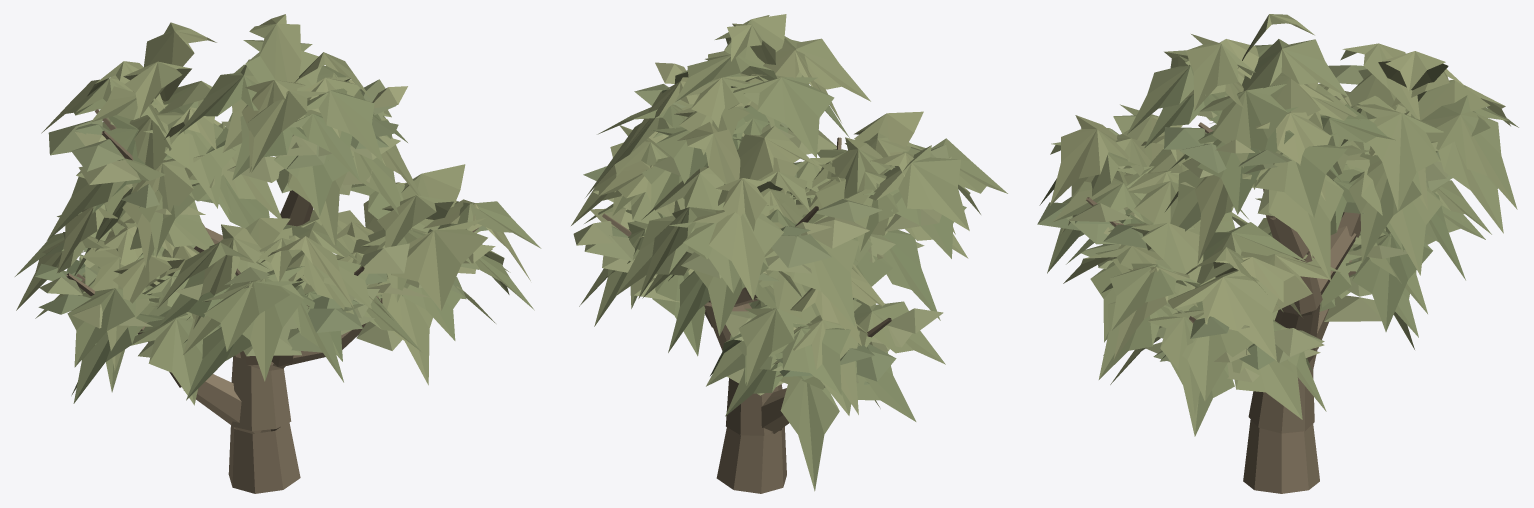
Rendered from leader.glb.
3 views of the same model, side by side, from view 1: azimuth 30°, elevation 25°; view 2: azimuth 150°, elevation 25°; view 3: azimuth 270°, elevation 25° (orthographic). The views are drawn at different scales.
Visible parts, largest first — view 1: leader; view 2: leader; view 3: leader.
Boxes of the visible parts, x1,y1,x2,y2 form: leader: (15,14,541,493); leader: (571,14,1007,493); leader: (1037,14,1518,493).
Size of the model in its own units: 1.66 by 1.75 by 1.62.
